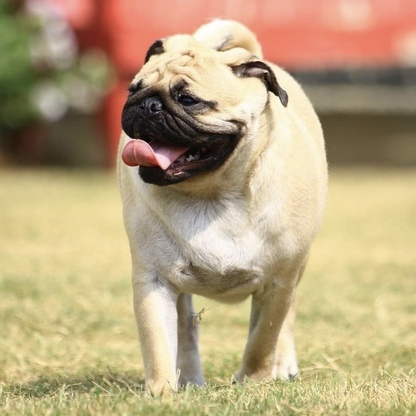Pug: (110, 12, 335, 400)
